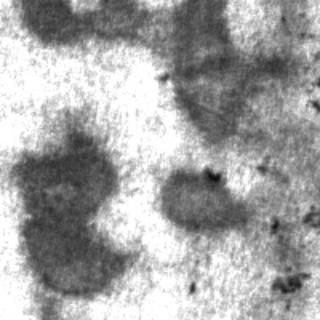inclusion: (264, 261, 308, 299)
patches: (0, 105, 132, 308), (155, 0, 259, 148), (148, 160, 255, 236), (10, 0, 160, 44)
